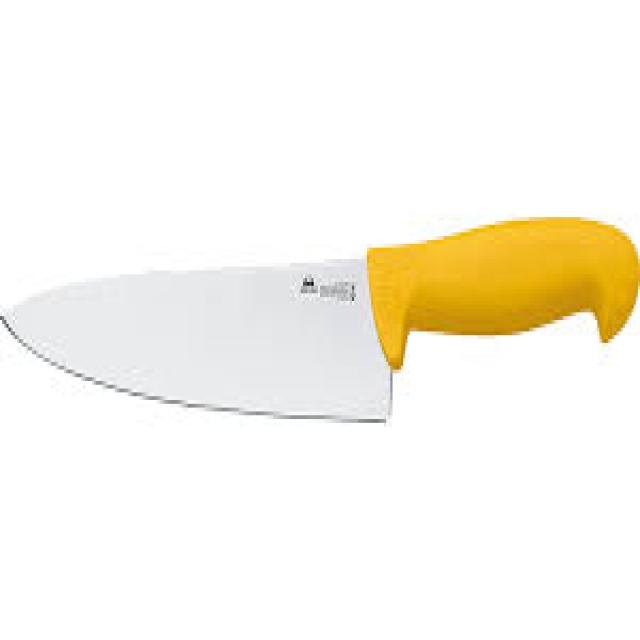Knife: (0, 213, 638, 423)
